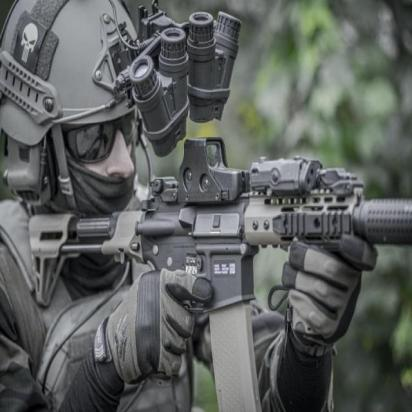Gun: (26, 133, 411, 411)
